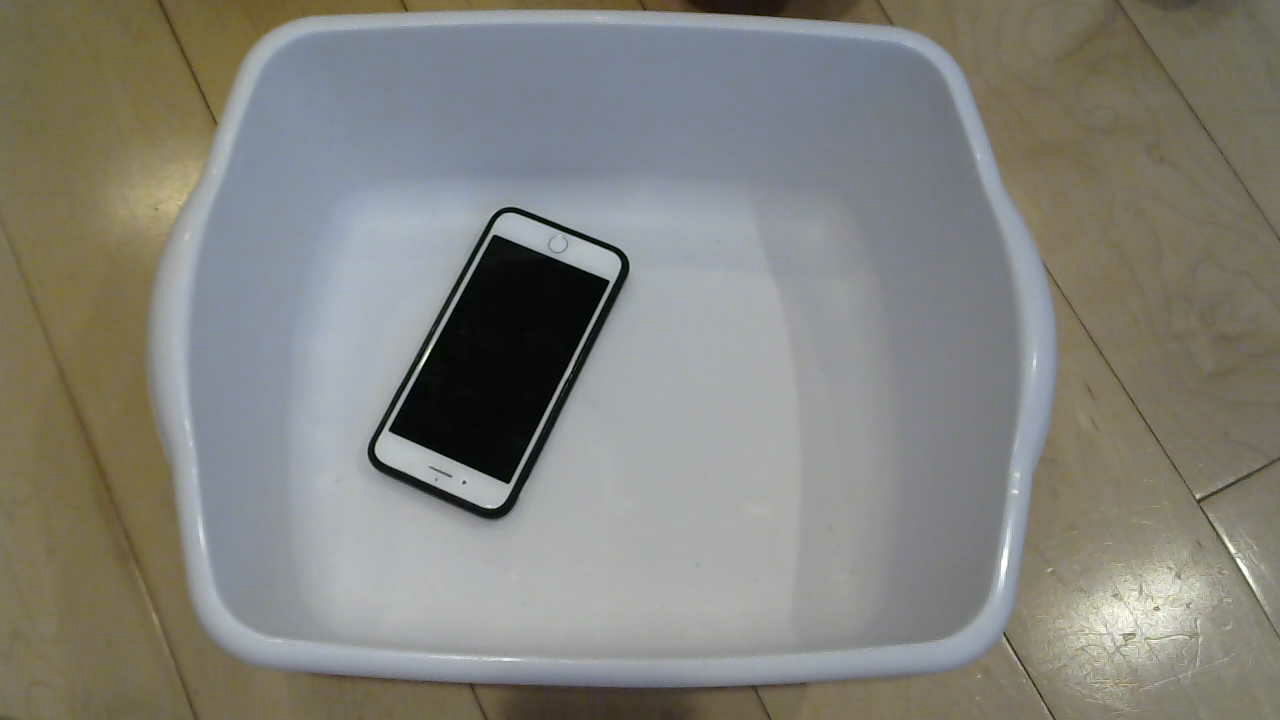phone: (351, 196, 630, 530)
